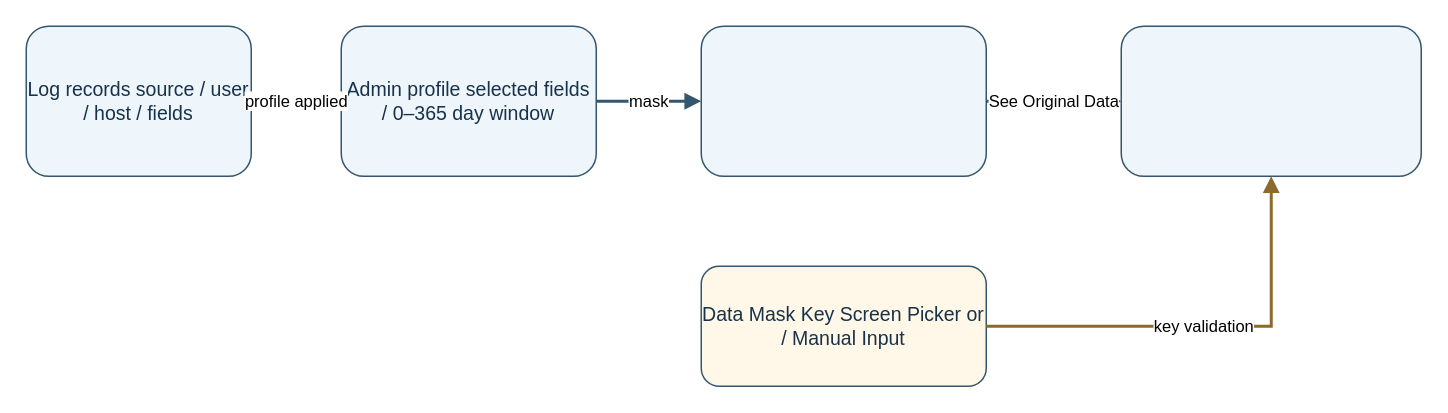
This 1448x413 diagram has some shape labels left out. Here are the shapes that lost their labels. From the top down, the centre of each, then its label:
the point at 843,100: Masked view per-admin anonymized / values change at login
the point at 1270,100: Selective reveal only selected field / other fields stay masked
